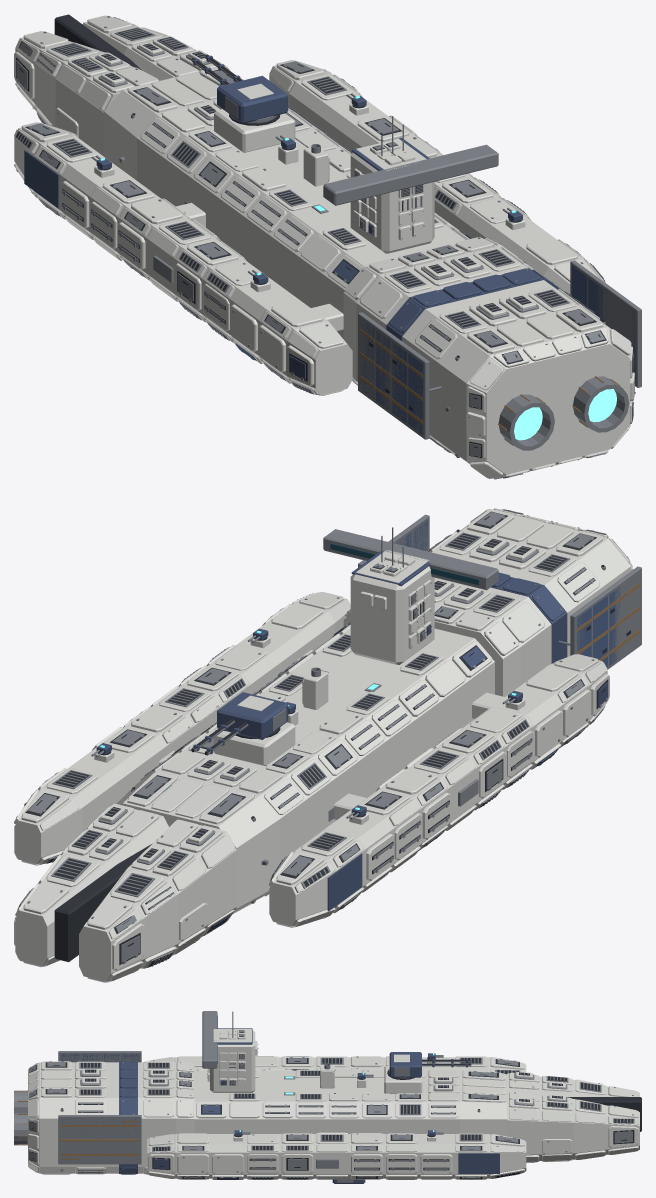
Rendered from earth_air_defense_cruiser_t4.glb.
3 views of the same model, one above another, from view 1: azimuth 30°, elevation 25°; view 2: azimuth 150°, elevation 25°; view 3: azimuth 270°, elevation 25° (orthographic). The views are drawn at different scales.
Visible parts, largest first — view 1: FleetHull, mesh_turret_gun_1; view 2: FleetHull, mesh_turret_gun_1; view 3: FleetHull, mesh_turret_gun_1, mesh_recoil_gun_1.
Part boxes in pixels (box(x1,y1,x2,y2)): FleetHull: box(14, 14, 641, 479); mesh_turret_gun_1: box(217, 75, 288, 123); FleetHull: box(14, 508, 641, 982); mesh_turret_gun_1: box(217, 692, 288, 739); FleetHull: box(14, 1011, 641, 1179); mesh_turret_gun_1: box(389, 1052, 421, 1078); mesh_recoil_gun_1: box(422, 1059, 471, 1067).
Bounding box in the file's own units: 118 × 96.7 × 331.
